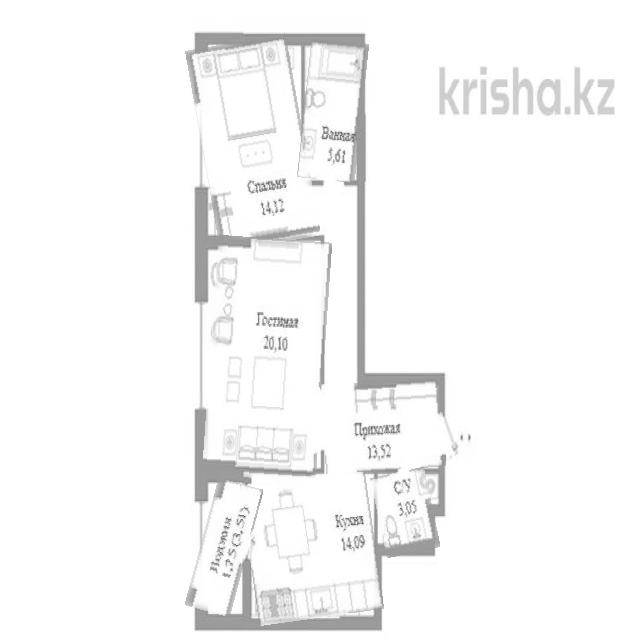bathroom: (301, 40, 365, 182), (192, 480, 255, 615), (374, 470, 437, 556)
hallway: (322, 379, 445, 472)
kitchen: (245, 472, 380, 622)
living_room: (206, 237, 328, 481), (193, 36, 313, 248)
